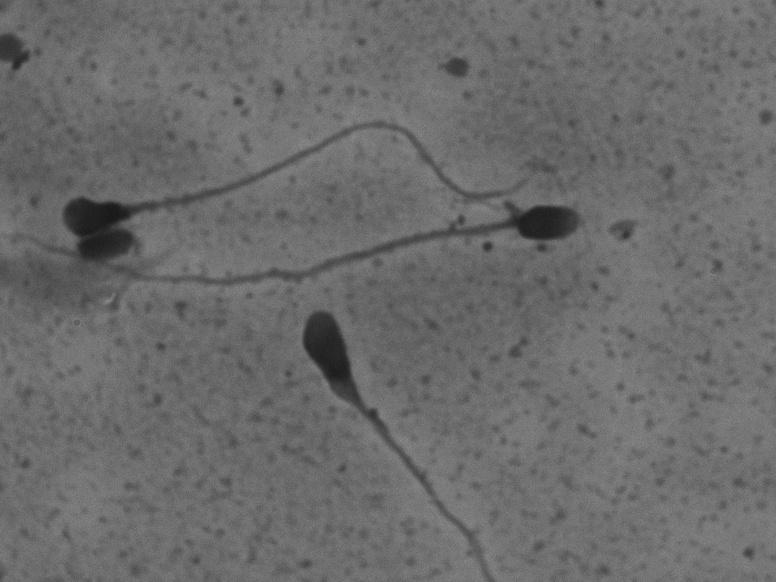Abnormal: (43, 92, 540, 242), (275, 303, 538, 576)
Normal: (9, 198, 599, 292)
